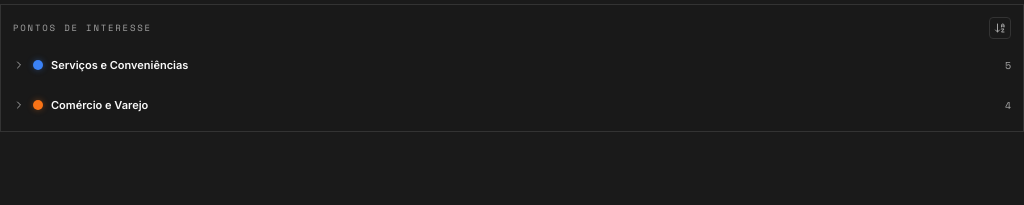
PoiLegend › expands a group and shows its categories
Click the button named "expandir serviços": [19, 65] box [9, 55, 29, 75]
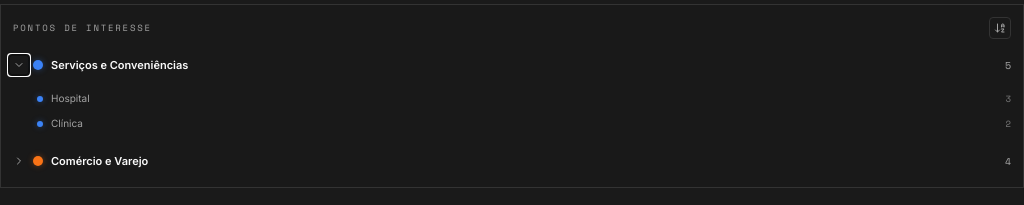
Check: the text "Hospital" is shown, box [51, 91, 90, 106]
Check: the text "Clínica" is shown, box [51, 116, 83, 131]
